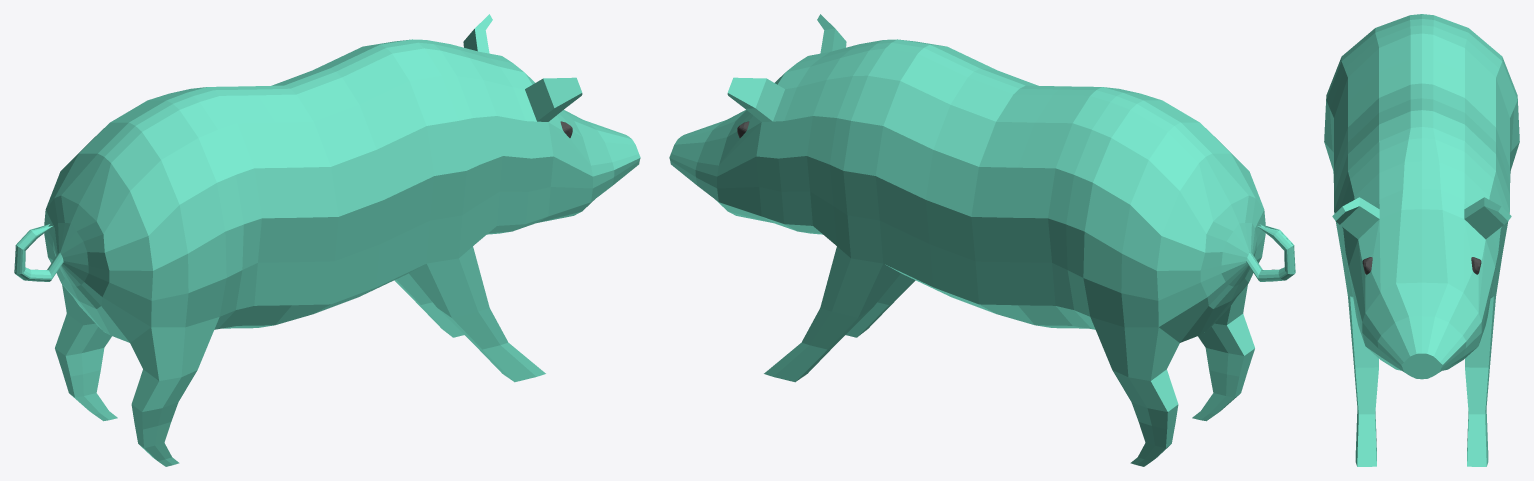
Rendered from Porco.fbx.
The picture shows the model from 3 angles, left to right: view 1: azimuth 30°, elevation 25°; view 2: azimuth 150°, elevation 25°; view 3: azimuth 270°, elevation 25°; orthographic projection. The views are drawn at different scales.
Parts seen in each view (by area): view 1: Porco; view 2: Porco; view 3: Porco.
Part boxes in pixels (box(x1,y1,x2,y2)): Porco: box(14, 14, 640, 466); Porco: box(669, 14, 1295, 466); Porco: box(1324, 14, 1519, 466).
Size of the model in its own units: 320 by 166 by 96.75.
